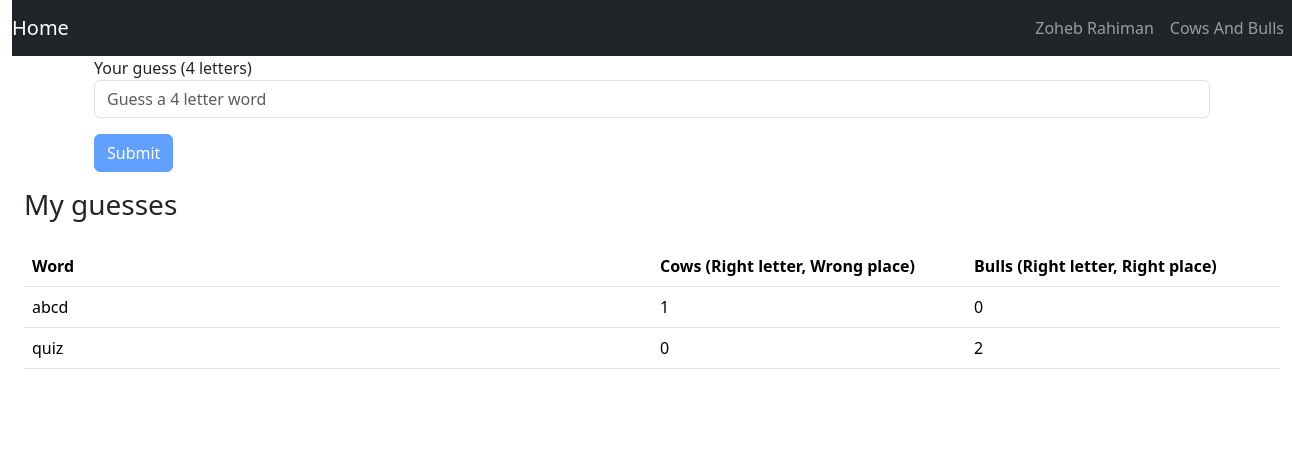
Test: submit › keeps the typed guess and reports the failure when the post fails
In the field labelled "Your guess (4 letters)": (652, 99) [94,80,1210,118], type "gold"
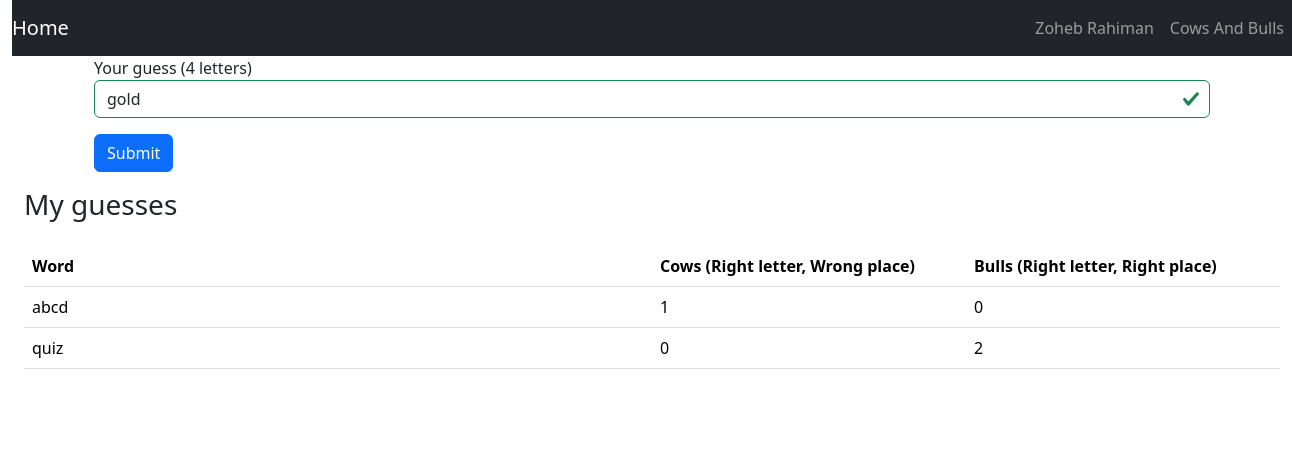
Click the button "Submit": (134, 153) [94,134,173,172]
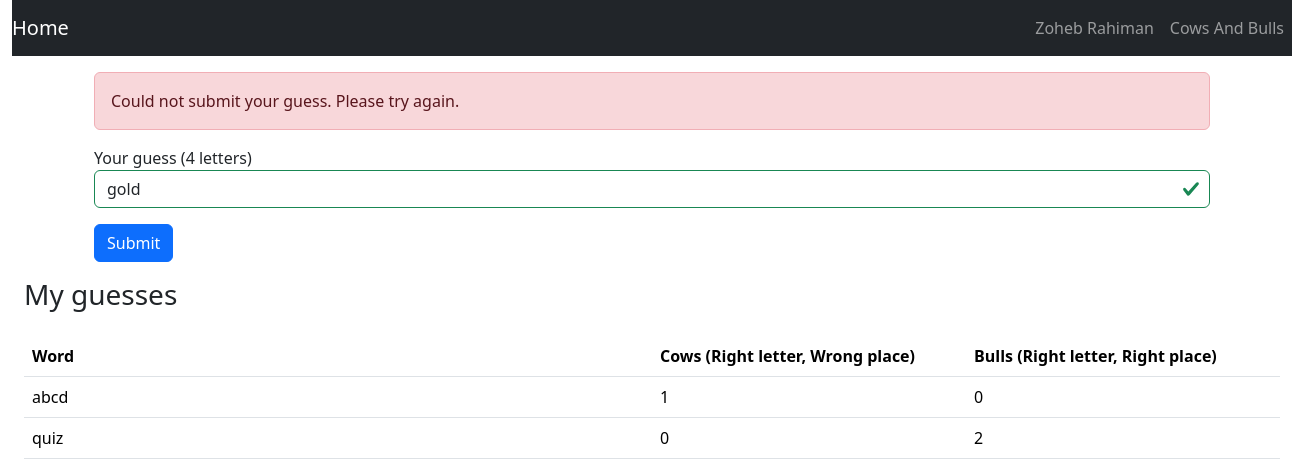
Expected: the message shows "Could not submit", [111,90,459,112]
